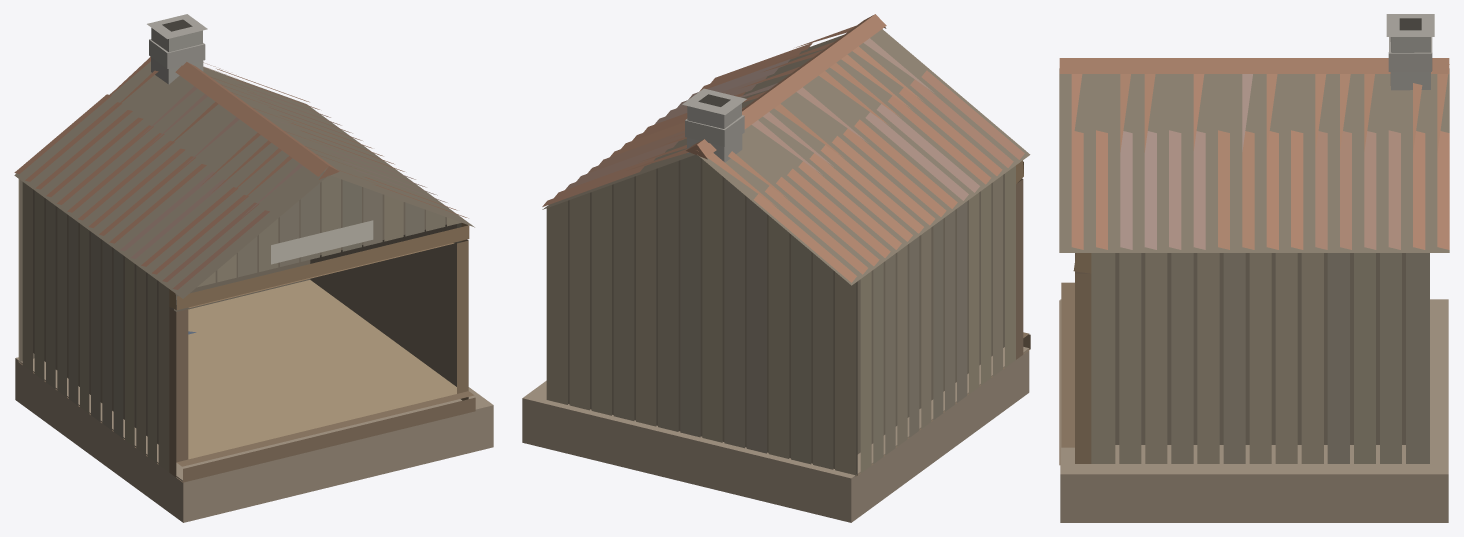
The model's file is house_8.lod.glb.
3 renders of one model, left to right at view 1: azimuth 30°, elevation 25°; view 2: azimuth 150°, elevation 25°; view 3: azimuth 270°, elevation 25°, orthographic. The views are drawn at different scales.
Parts seen in each view (by area): view 1: house_8; view 2: house_8; view 3: house_8.
Boxes of the visible parts, x1,y1,x2,y2 form: house_8: [14, 14, 493, 522]; house_8: [522, 14, 1030, 522]; house_8: [1059, 14, 1449, 522].
Size of the model in its own units: 7.98 by 8.6 by 7.5.
